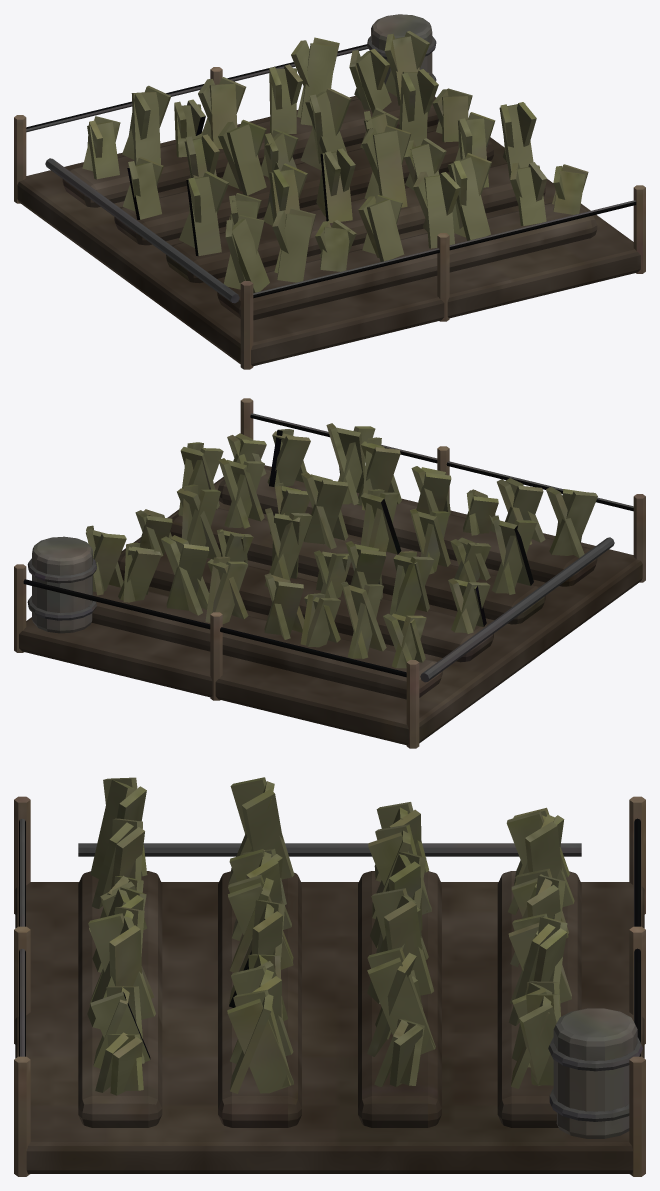
Rendered from home-crops.glb.
3 renders of one model, top to bottom at view 1: azimuth 30°, elevation 25°; view 2: azimuth 150°, elevation 25°; view 3: azimuth 270°, elevation 25°, orthographic. The views are drawn at different scales.
Parts seen in each view (by area): view 1: wh_crops; view 2: wh_crops; view 3: wh_crops.
Part boxes in pixels (x1,y1,x2,y2): wh_crops: (14, 14, 645, 369); wh_crops: (14, 398, 645, 748); wh_crops: (14, 777, 645, 1176).
Bounding box in the file's own units: 0.9008 × 0.2566 × 0.904.
Materials: 1 (1 with a texture image).
